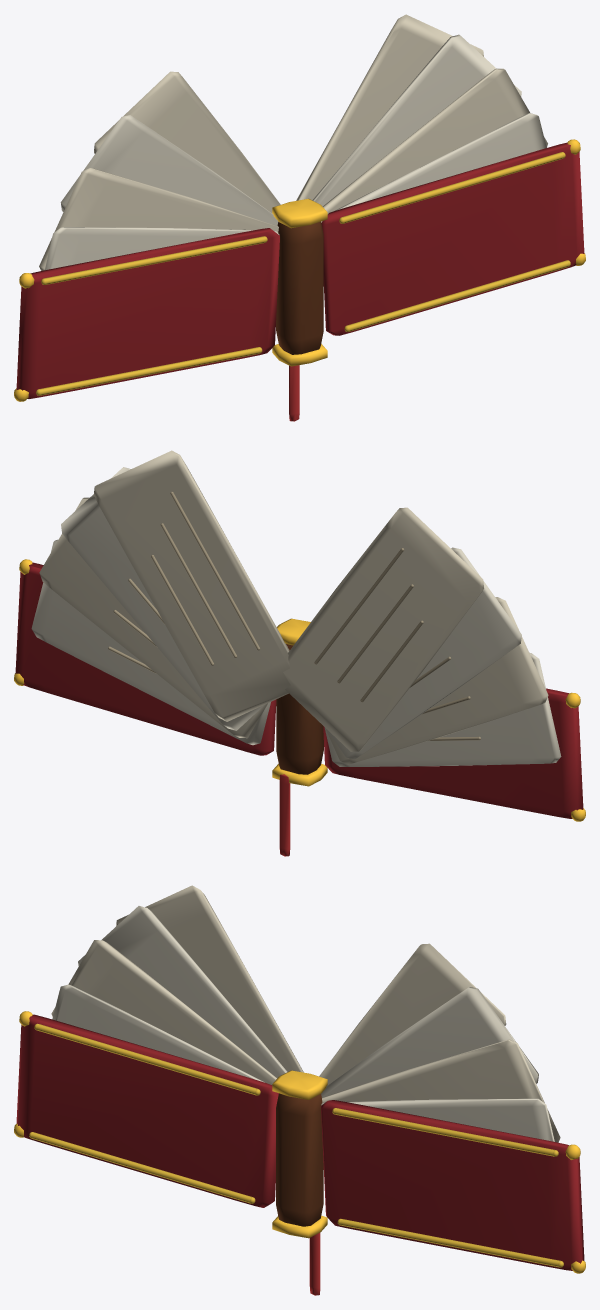
File: back_bxbook.glb
The picture shows the model from 3 angles, top to bottom: view 1: azimuth 30°, elevation 25°; view 2: azimuth 150°, elevation 25°; view 3: azimuth 330°, elevation 25°; orthographic projection.
Parts seen in each view (by area): view 1: bxbook_cv1, bxbook_cv-1, bxbook_spine, bxbook_p11, bxbook_p-11, bxbook_p12, bxbook_p13, bxbook_p-12, bxbook_p-13, bxbook_p10, bxbook_p-10; view 2: bxbook_p13, bxbook_p-13, bxbook_cv-1, bxbook_cv1, bxbook_p-12, bxbook_p-11, bxbook_p-10, bxbook_p10, bxbook_p11, bxbook_p12, bxbook_spine; view 3: bxbook_cv1, bxbook_cv-1, bxbook_spine, bxbook_p-11, bxbook_p-12, bxbook_p11, bxbook_p-13, bxbook_p12, bxbook_p13, bxbook_p-10, bxbook_p10.
Boxes of the visible parts, x1,y1,x2,y2 form: bxbook_cv1: [321, 139, 585, 335]; bxbook_cv-1: [14, 228, 279, 401]; bxbook_spine: [272, 198, 327, 421]; bxbook_p11: [322, 68, 547, 213]; bxbook_p-11: [39, 168, 278, 270]; bxbook_p12: [312, 34, 521, 206]; bxbook_p13: [296, 14, 483, 200]; bxbook_p-12: [60, 115, 278, 225]; bxbook_p-13: [94, 71, 280, 213]; bxbook_p10: [321, 113, 546, 222]; bxbook_p-10: [45, 227, 279, 270]; bxbook_p13: [93, 450, 290, 721]; bxbook_p-13: [283, 507, 483, 751]; bxbook_cv-1: [323, 688, 585, 821]; bxbook_cv1: [14, 559, 276, 755]; bxbook_p-12: [325, 547, 521, 759]; bxbook_p-11: [325, 597, 548, 764]; bxbook_p-10: [324, 652, 561, 766]; bxbook_p10: [31, 539, 270, 745]; bxbook_p11: [39, 497, 267, 738]; bxbook_p12: [61, 467, 264, 730]; bxbook_spine: [272, 618, 327, 856]; bxbook_cv1: [321, 1100, 585, 1273]; bxbook_cv-1: [14, 1011, 278, 1207]; bxbook_spine: [272, 1070, 327, 1295]; bxbook_p-11: [51, 940, 277, 1084]; bxbook_p-12: [78, 906, 287, 1077]; bxbook_p11: [322, 1039, 560, 1142]; bxbook_p-13: [116, 885, 303, 1072]; bxbook_p12: [321, 987, 538, 1097]; bxbook_p13: [319, 943, 506, 1084]; bxbook_p-10: [52, 984, 265, 1082]; bxbook_p10: [321, 1098, 554, 1141].
Bounding box in the file's own units: 4.8 × 3.05 × 0.3538.
